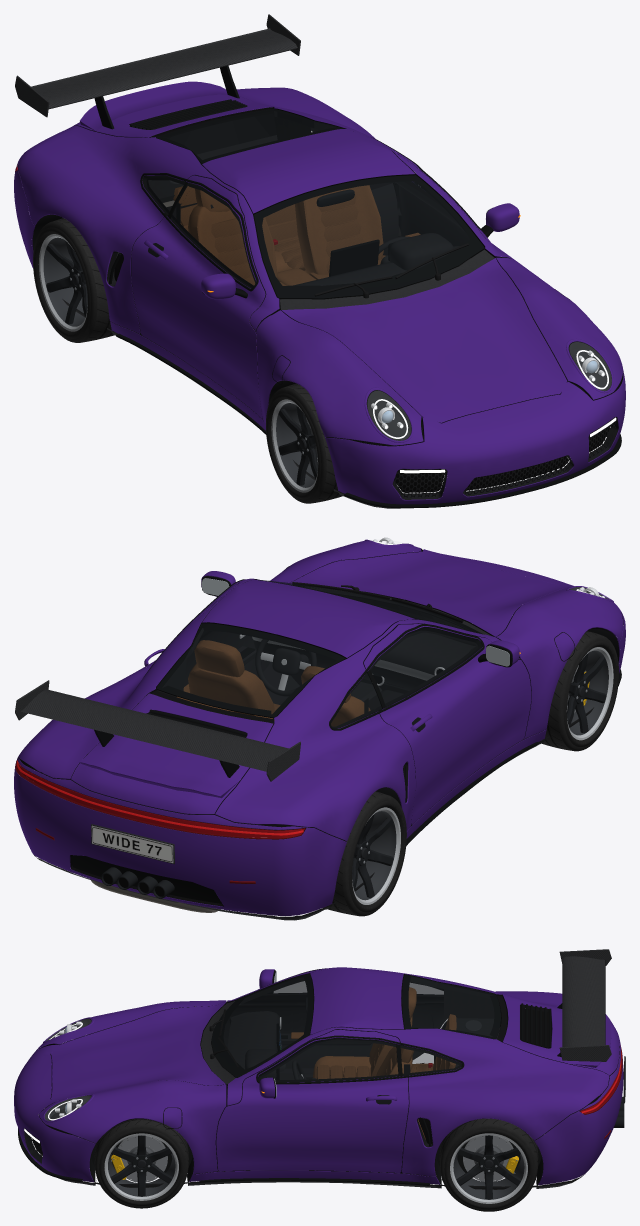
The model's file is widebody-drift-coupe.glb.
3 views of the same model, one above another, from view 1: azimuth 30°, elevation 25°; view 2: azimuth 150°, elevation 25°; view 3: azimuth 270°, elevation 25° (orthographic). The views are drawn at different scales.
Parts seen in each view (by area): view 1: Body, Wheel_RR, Wheel_FR; view 2: Body, Wheel_RR, Wheel_FR, Steering_Wheel; view 3: Body, Wheel_RL, Wheel_FL.
Part boxes in pixels (box(x1,y1,x2,y2)): Body: box(14, 14, 625, 508); Wheel_RR: box(33, 218, 117, 342); Wheel_FR: box(266, 383, 344, 503); Body: box(14, 537, 625, 920); Wheel_RR: box(323, 791, 406, 916); Wheel_FR: box(538, 631, 618, 751); Steering_Wheel: box(255, 639, 316, 696); Body: box(14, 949, 625, 1189); Wheel_RL: box(439, 1118, 538, 1211); Wheel_FL: box(94, 1119, 188, 1208).
Bounding box in the file's own units: 2.02 × 1.26 × 4.34.
61 materials, 12 textured.
